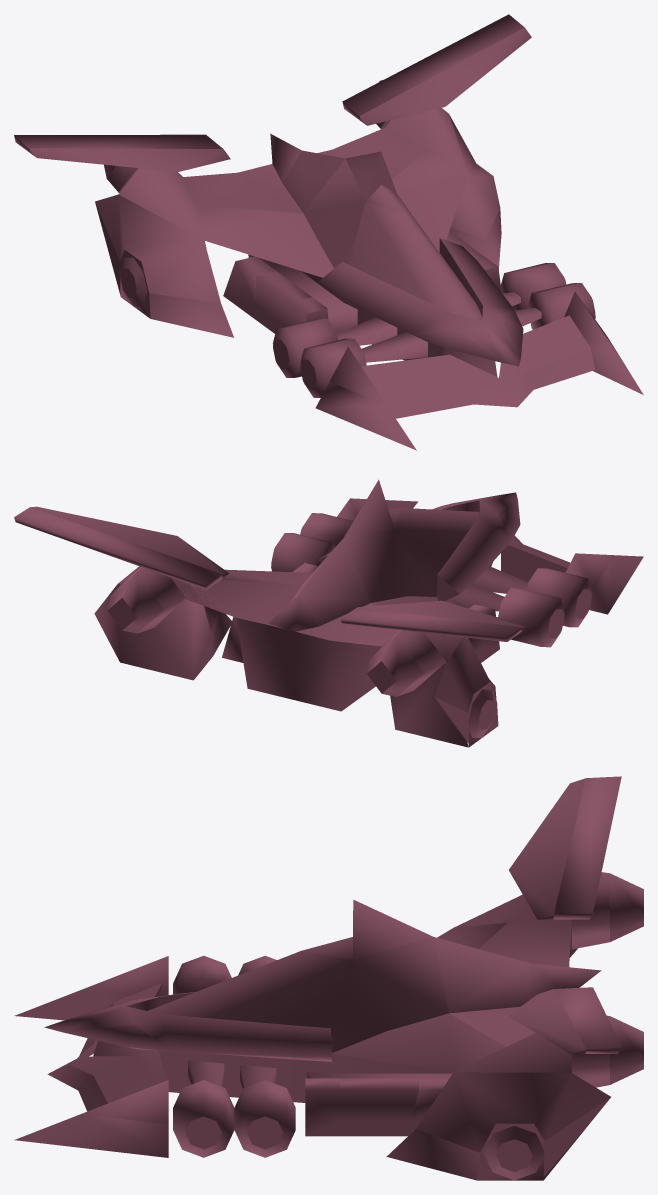
Rendered from view.ico.obj.
3 renders of one model, top to bottom at view 1: azimuth 30°, elevation 25°; view 2: azimuth 150°, elevation 25°; view 3: azimuth 270°, elevation 25°, orthographic. The views are drawn at different scales.
Bounding box in the file's own units: 4.2 × 1.34 × 4.13.
Materials: 1 (1 with a texture image).
